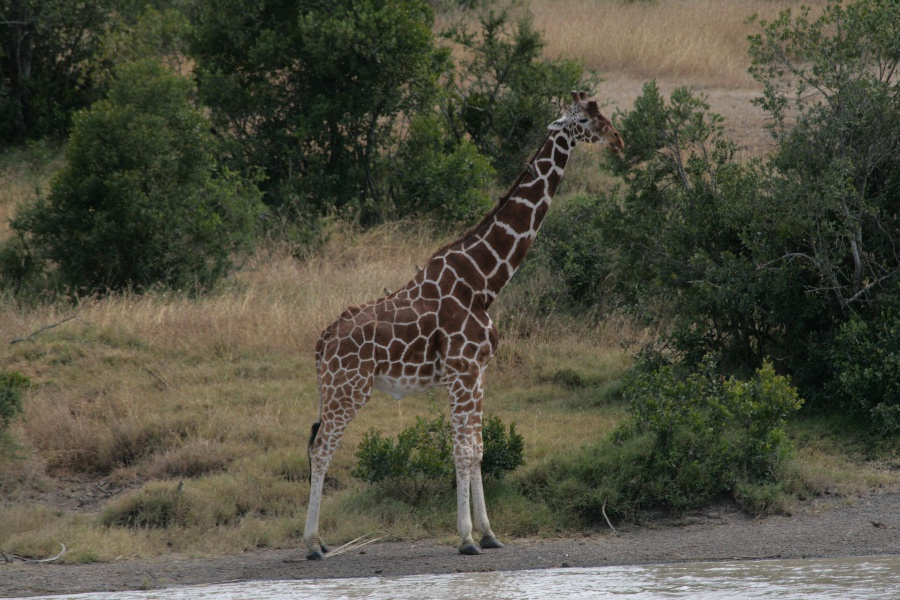giraffe: (288, 78, 631, 570)
